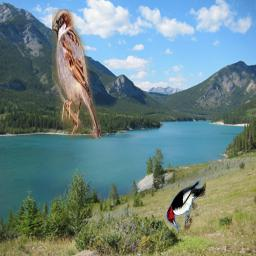Sparrow: (52, 9, 101, 139)
Woodpecker: (162, 178, 206, 231)
